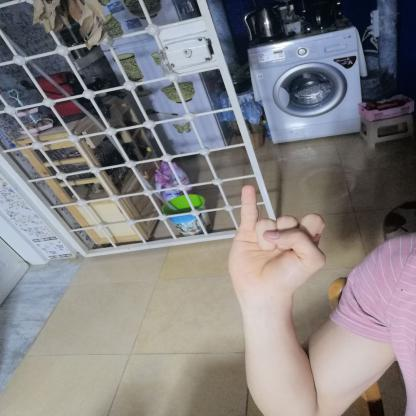MEEM: (216, 178, 336, 309)
